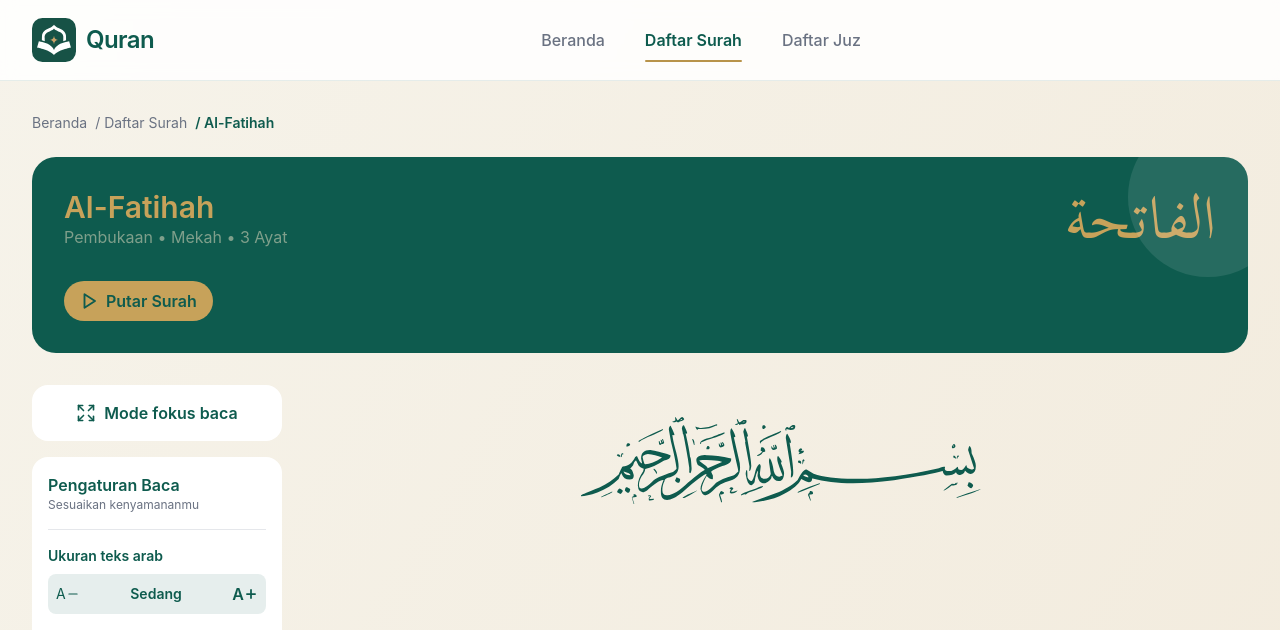
Test: SurahDetailView › mode fokus › menyembunyikan header situs, footer, dan breadcrumb
Expected: the header is shown, [0,0,1279,81]
Click the button with aria-label "Mode fokus baca".
click(157, 413)  # box [32,385,282,441]
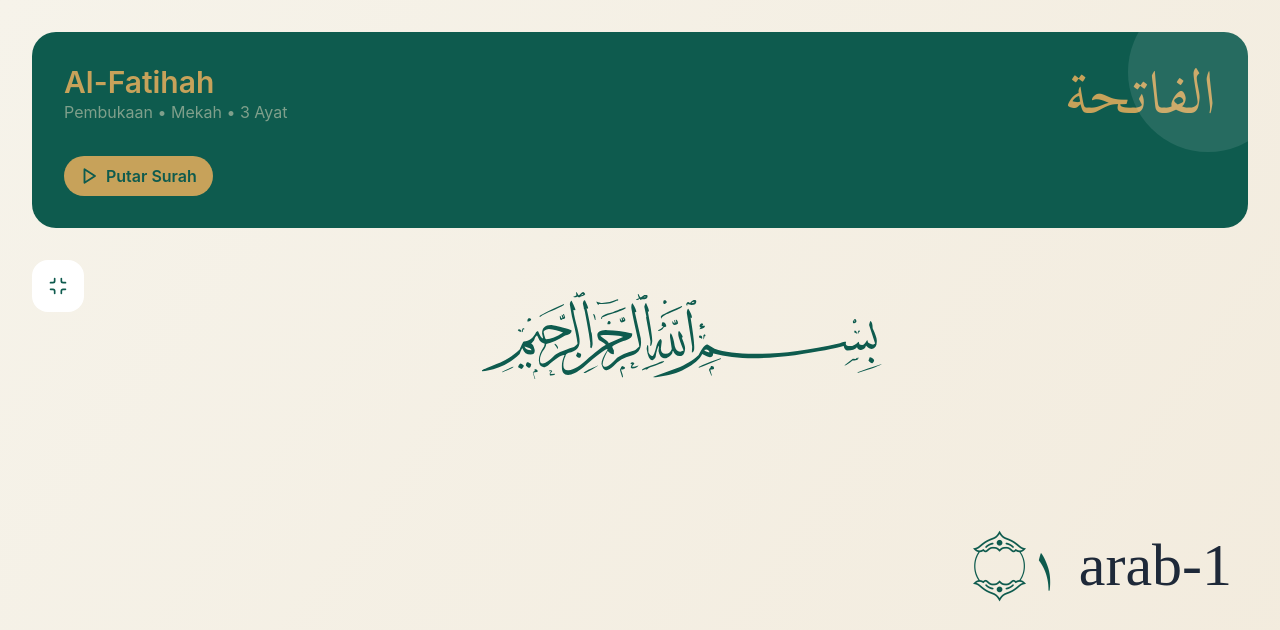
Expected: the text "Daftar Surah" is gone
